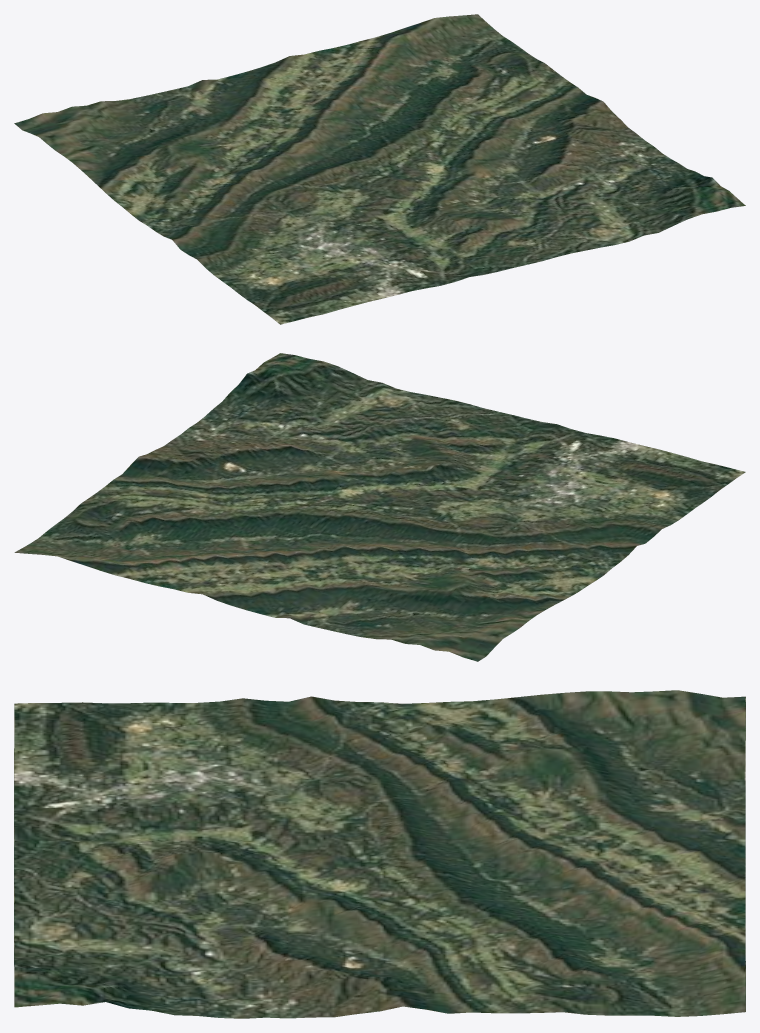
The picture shows the model from 3 angles, top to bottom: view 1: azimuth 30°, elevation 25°; view 2: azimuth 150°, elevation 25°; view 3: azimuth 270°, elevation 25°; orthographic projection. The views are drawn at different scales.
Bounding box in the file's own units: 31231 × 855 × 31055.
Materials: 1 (1 with a texture image).
